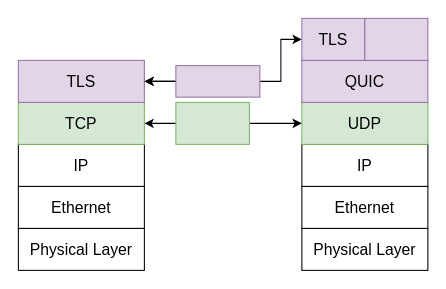
The diagram is 446 pixels wide and 289 high, and some of its shapes have lost their labels. The shapes that lost their labels are listed below. From the top down, each one's centre as x and y in pixels, then its label:
At pixel 396 38: "stream".
At pixel 217 81: "Encryption".
At pixel 212 122: "Transport Layer".
